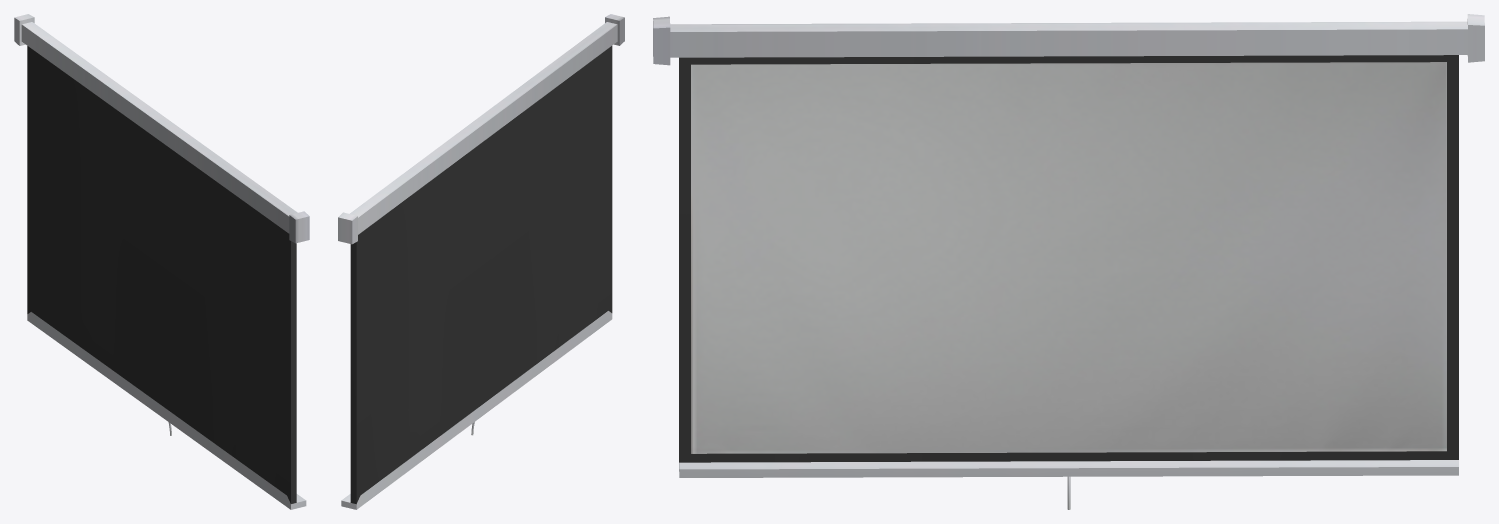
File: curtain.glb
3 renders of one model, left to right at view 1: azimuth 30°, elevation 25°; view 2: azimuth 150°, elevation 25°; view 3: azimuth 270°, elevation 25°, orthographic. The views are drawn at different scales.
Visible parts, largest first — view 1: Object_1043.001; view 2: Object_1043.001; view 3: Object_1043.001.
Boxes of the visible parts, x1=… form: Object_1043.001: x1=14, y1=14, x2=309, y2=509; Object_1043.001: x1=338, y1=14, x2=624, y2=509; Object_1043.001: x1=653, y1=14, x2=1484, y2=509.
Size of the model in its own units: 0.1129 by 1.48 by 2.31.
Materials: 1 (1 with a texture image).
